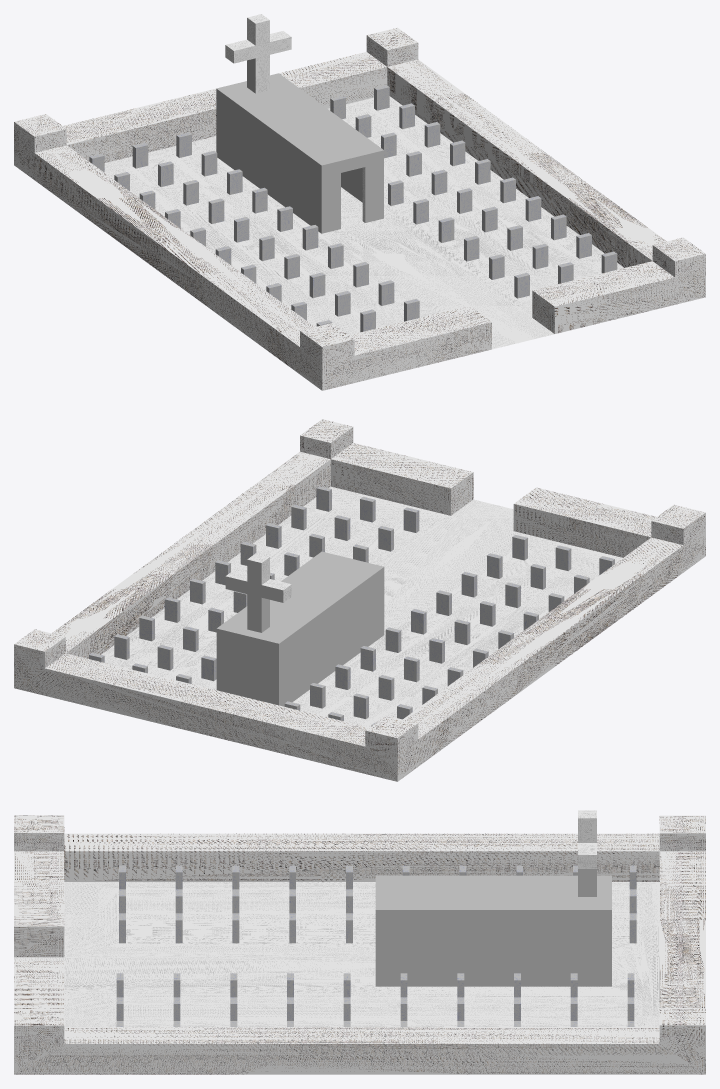
3 renders of one model, top to bottom at view 1: azimuth 30°, elevation 25°; view 2: azimuth 150°, elevation 25°; view 3: azimuth 270°, elevation 25°, orthographic. The views are drawn at different scales.
Parts seen in each view (by area): view 1: SketchUp (×6); view 2: SketchUp (×5); view 3: SketchUp (×5).
Part boxes in pixels (<box>): SketchUp (×6): <box>14,14,705,390</box>; SketchUp (×5): <box>14,419,705,781</box>; SketchUp (×5): <box>14,810,705,1074</box>.
Bounding box in the file's own units: 429 × 598 × 148.
